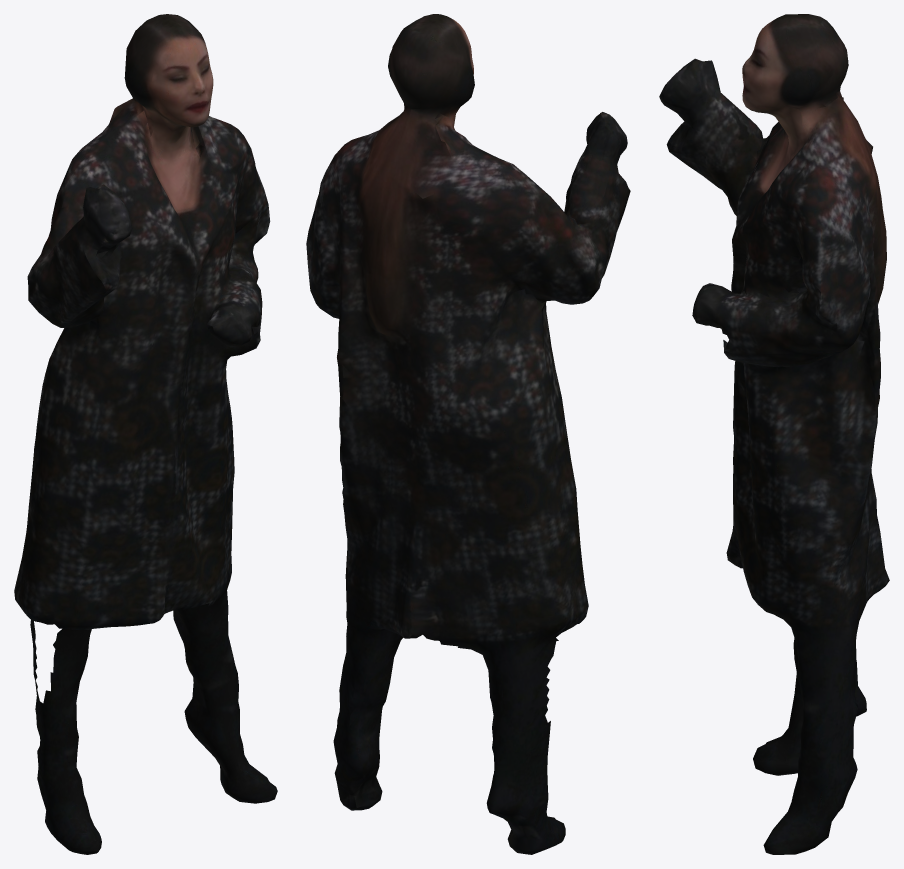
The model's file is evercoast.0145.gltf.
The picture shows the model from 3 angles, left to right: view 1: azimuth 30°, elevation 25°; view 2: azimuth 150°, elevation 25°; view 3: azimuth 270°, elevation 25°; orthographic projection.
Visible parts, largest first — view 1: HIGH; view 2: HIGH; view 3: HIGH.
Part boxes in pixels (box(x1,y1,x2,y2)): HIGH: box(14, 14, 277, 854); HIGH: box(306, 14, 630, 854); HIGH: box(659, 14, 889, 854).
Bounding box in the file's own units: 0.6296 × 1.83 × 0.4763.
Materials: 1 (1 with a texture image).
